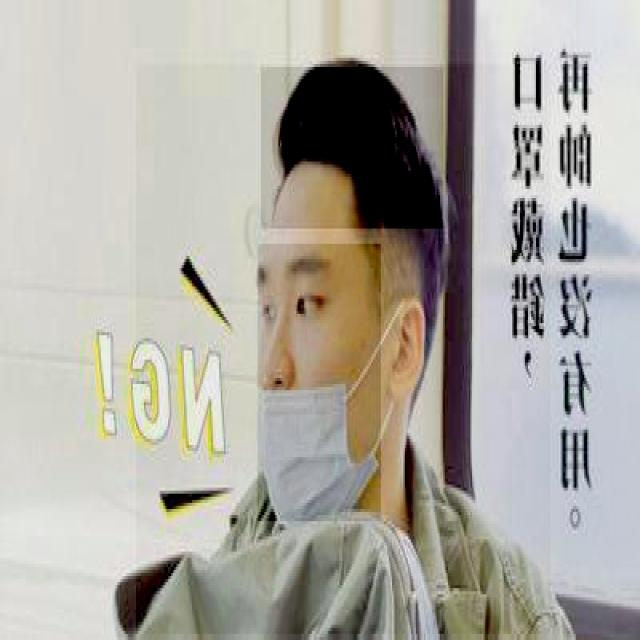face_mask: (256, 244, 381, 524)
head_nohelmet: (259, 67, 443, 232)
person: (134, 64, 550, 637)
